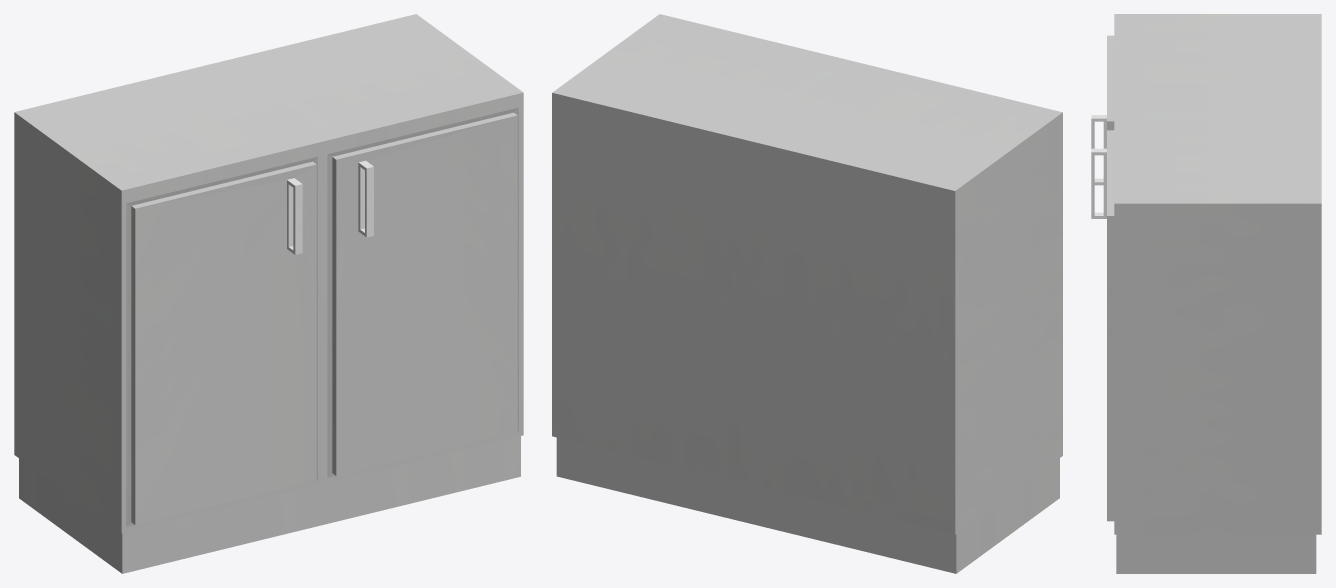
Rendered from cupboard_bottom.dae.
3 renders of one model, left to right at view 1: azimuth 30°, elevation 25°; view 2: azimuth 150°, elevation 25°; view 3: azimuth 270°, elevation 25°, orthographic. The views are drawn at different scales.
Parts seen in each view (by area): view 1: cupboard_bottom; view 2: cupboard_bottom; view 3: cupboard_bottom.
Boxes of the visible parts, x1=… form: cupboard_bottom: x1=14, y1=14, x2=523, y2=573; cupboard_bottom: x1=552, y1=14, x2=1062, y2=573; cupboard_bottom: x1=1091, y1=14, x2=1321, y2=573.
Bounding box in the file's own units: 0.7538 × 0.3875 × 0.6887.
